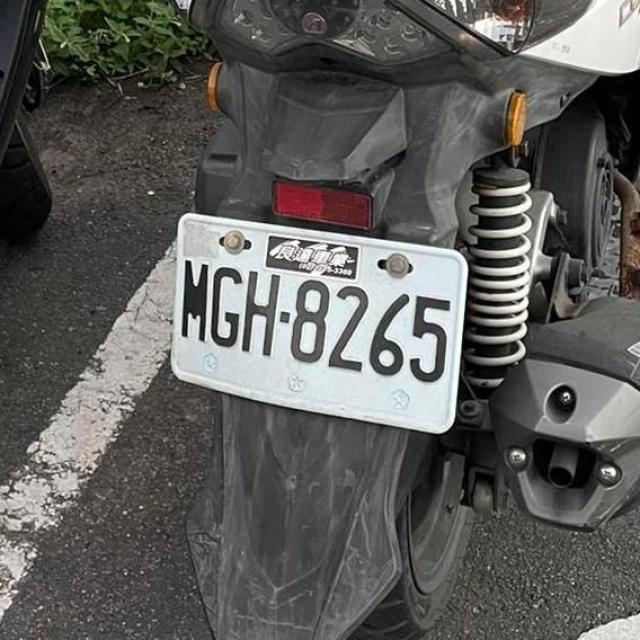W: (156, 202, 476, 437)
